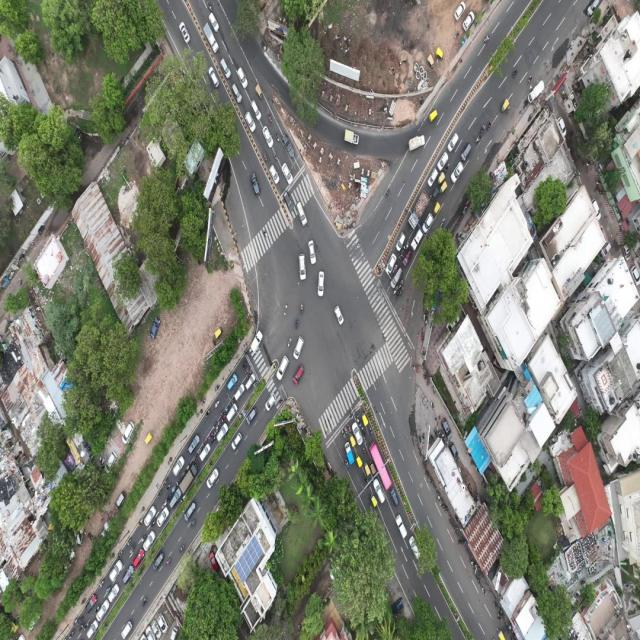3W: (500, 96, 510, 112), (426, 54, 436, 69), (428, 109, 438, 123), (434, 47, 444, 61), (369, 494, 378, 508), (144, 431, 154, 443), (256, 84, 263, 99), (361, 412, 368, 427), (432, 202, 440, 215), (439, 182, 448, 193), (356, 454, 362, 469), (214, 328, 222, 338), (432, 189, 439, 199)
Bus: (369, 440, 392, 490)
Cars: (408, 534, 421, 561), (282, 133, 295, 158), (276, 355, 289, 380), (121, 418, 134, 443), (296, 199, 308, 226), (441, 416, 453, 440), (178, 22, 191, 44), (109, 560, 122, 582), (97, 599, 110, 621), (206, 468, 220, 488), (220, 56, 232, 79), (262, 125, 274, 148), (281, 162, 293, 185), (293, 334, 304, 359), (451, 162, 464, 183), (142, 531, 156, 550), (282, 191, 294, 213), (106, 448, 117, 472), (245, 406, 258, 426), (390, 268, 403, 288), (149, 316, 160, 339), (144, 505, 156, 526), (452, 2, 466, 20), (462, 12, 476, 30), (183, 502, 196, 521), (157, 508, 170, 527), (86, 620, 99, 639), (236, 68, 248, 88), (152, 551, 164, 571), (169, 488, 181, 508), (352, 421, 362, 445), (556, 116, 568, 136), (385, 253, 396, 274), (250, 173, 260, 196), (268, 165, 280, 184), (108, 583, 120, 602), (245, 113, 256, 133), (114, 490, 125, 510), (395, 231, 406, 251), (308, 240, 317, 264), (292, 366, 304, 384), (188, 435, 200, 453), (427, 169, 439, 187), (436, 152, 448, 170), (446, 134, 458, 152), (334, 305, 344, 326), (227, 403, 238, 422), (85, 594, 96, 613), (299, 254, 307, 280), (225, 374, 238, 390), (264, 394, 276, 411), (209, 67, 219, 87), (461, 142, 471, 162), (231, 432, 242, 450), (390, 486, 399, 508), (122, 620, 132, 639), (123, 566, 134, 583), (234, 384, 245, 400), (133, 550, 144, 566), (449, 442, 459, 459), (402, 250, 412, 266), (318, 271, 324, 296)
LCV: (203, 22, 219, 54), (408, 133, 426, 150), (251, 330, 263, 353), (411, 228, 423, 250), (344, 128, 359, 145), (344, 442, 354, 466)
M2W: (482, 35, 492, 43), (512, 65, 518, 78), (98, 579, 105, 589), (453, 30, 460, 39), (267, 113, 273, 123), (70, 629, 76, 639), (126, 538, 133, 546), (362, 443, 366, 457), (79, 622, 85, 631), (475, 134, 481, 143), (273, 151, 278, 161), (275, 132, 280, 142), (369, 425, 374, 435), (156, 490, 163, 497), (295, 317, 299, 329), (242, 360, 248, 368), (214, 400, 220, 408), (73, 617, 79, 625), (384, 189, 390, 197), (211, 337, 216, 346), (142, 597, 147, 606), (396, 290, 401, 299), (192, 454, 198, 461), (161, 500, 167, 507), (190, 519, 196, 526), (179, 545, 185, 552), (118, 551, 124, 558), (288, 337, 292, 347), (341, 429, 345, 439), (441, 218, 446, 226), (488, 120, 492, 130), (264, 153, 268, 162), (221, 416, 227, 422), (214, 385, 220, 391), (166, 559, 172, 565), (138, 519, 144, 525), (347, 423, 351, 432), (354, 408, 358, 417), (404, 243, 410, 249), (482, 123, 486, 132), (344, 426, 348, 434), (364, 475, 368, 483), (300, 305, 303, 315), (163, 479, 168, 485), (101, 464, 105, 471), (206, 410, 210, 417), (278, 397, 282, 404), (350, 412, 353, 421), (245, 368, 250, 373), (254, 381, 259, 386), (264, 231, 268, 237), (202, 399, 206, 405), (217, 420, 221, 426), (63, 636, 69, 640), (246, 373, 251, 377), (220, 411, 224, 416), (205, 438, 208, 444), (214, 423, 218, 427), (210, 439, 214, 443), (211, 432, 214, 436), (213, 435, 217, 438), (202, 442, 205, 446), (102, 459, 104, 464), (216, 426, 219, 429)
MAV: (409, 190, 430, 229), (395, 513, 407, 539)
Truck: (180, 459, 199, 492), (526, 80, 548, 102)
